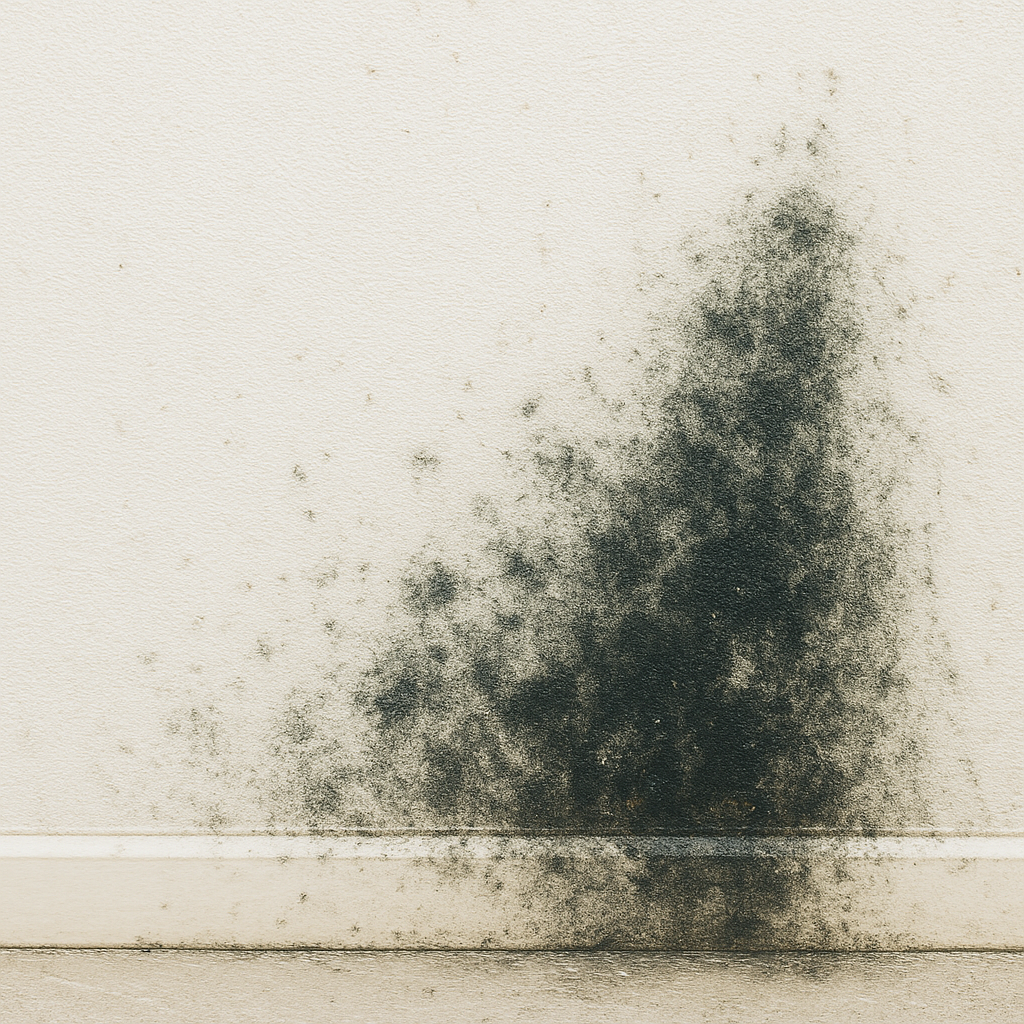schimmel: (746, 231, 841, 824), (662, 413, 743, 848), (566, 504, 659, 824), (455, 586, 559, 823), (561, 856, 828, 933)
